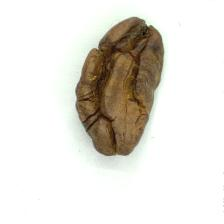NG: (79, 18, 151, 147)
